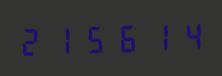five: (80, 21, 110, 56)
four: (173, 17, 203, 52)
one: (48, 22, 78, 57), (142, 18, 172, 53)
six: (111, 20, 141, 54)
two: (17, 23, 47, 58)
